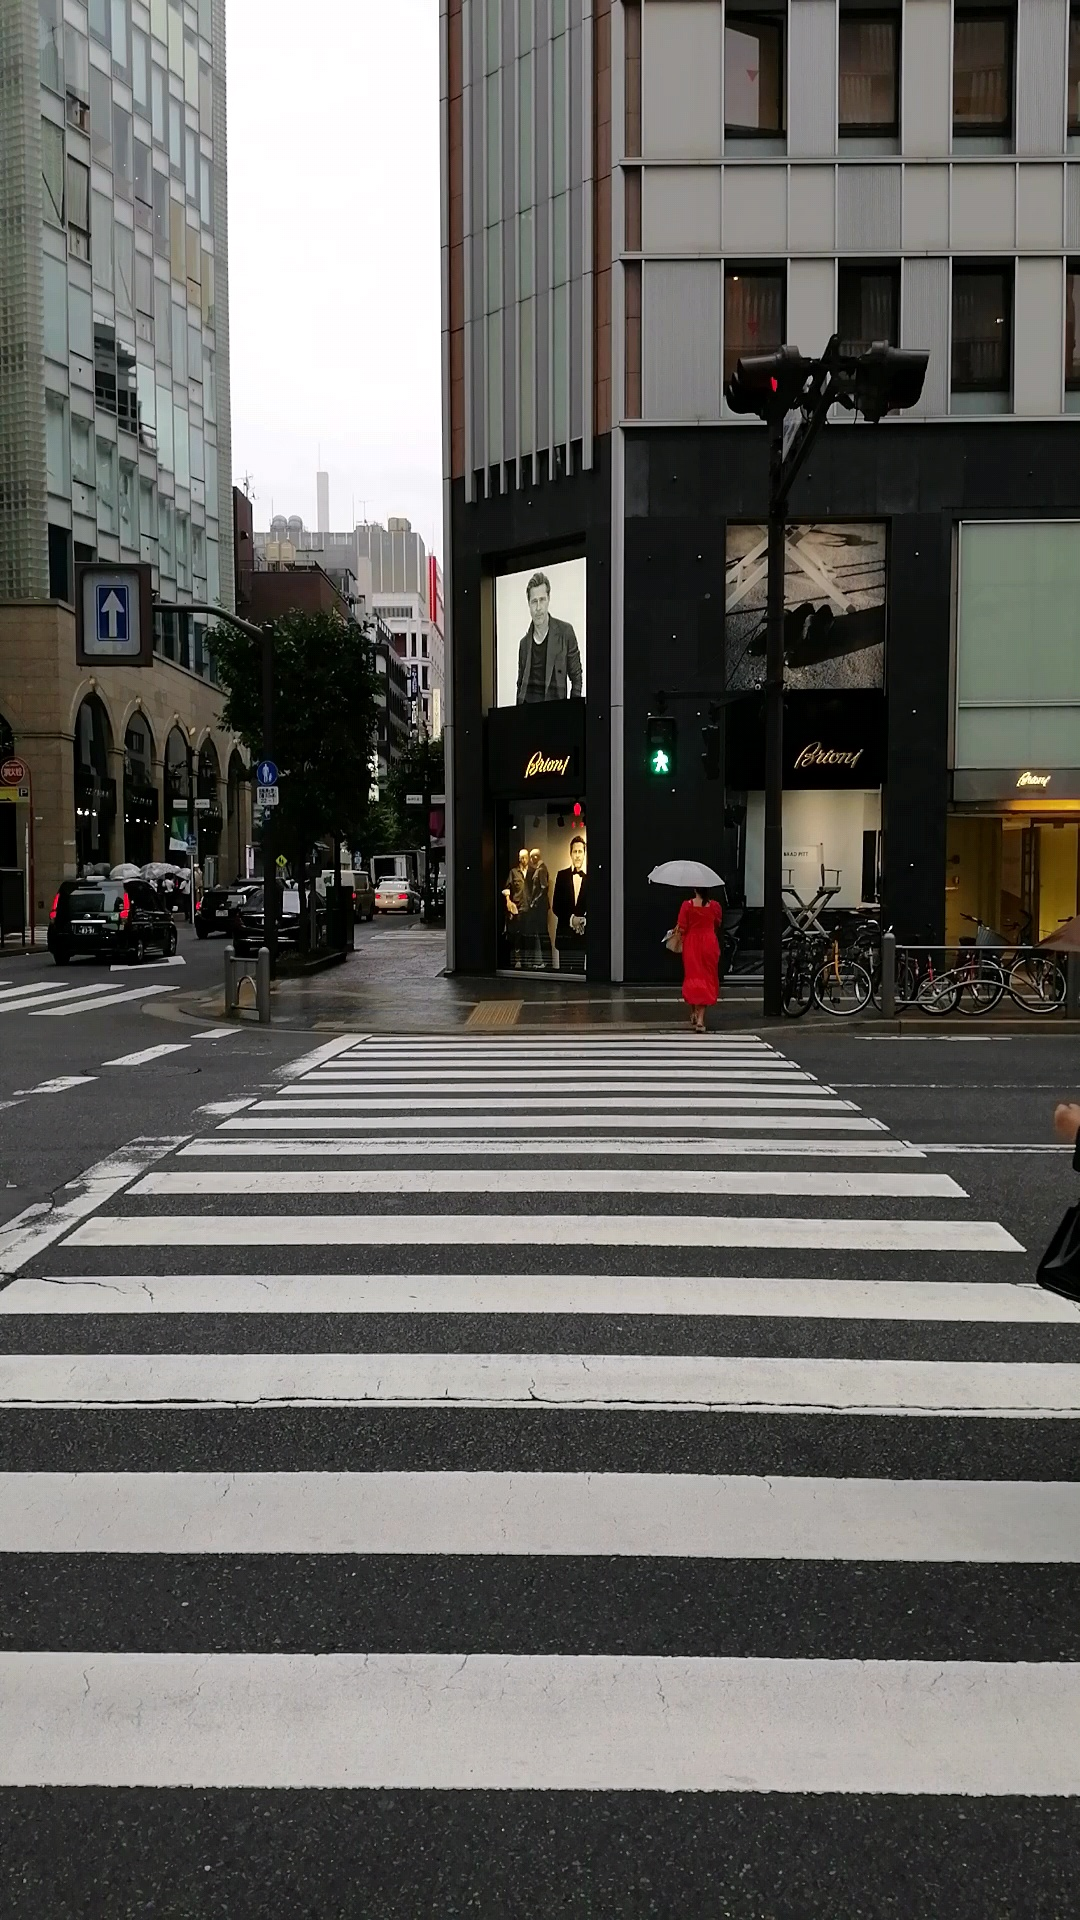green: (644, 713, 676, 783)
